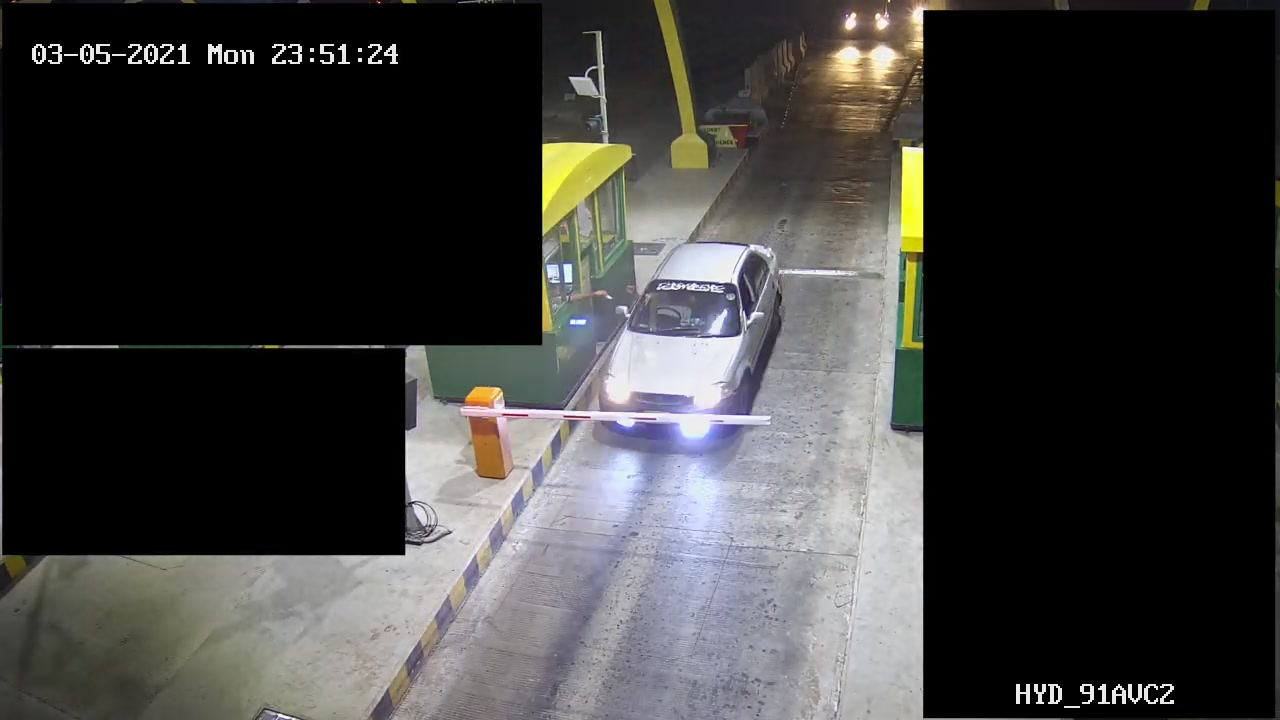F1: (590, 235, 794, 448)
